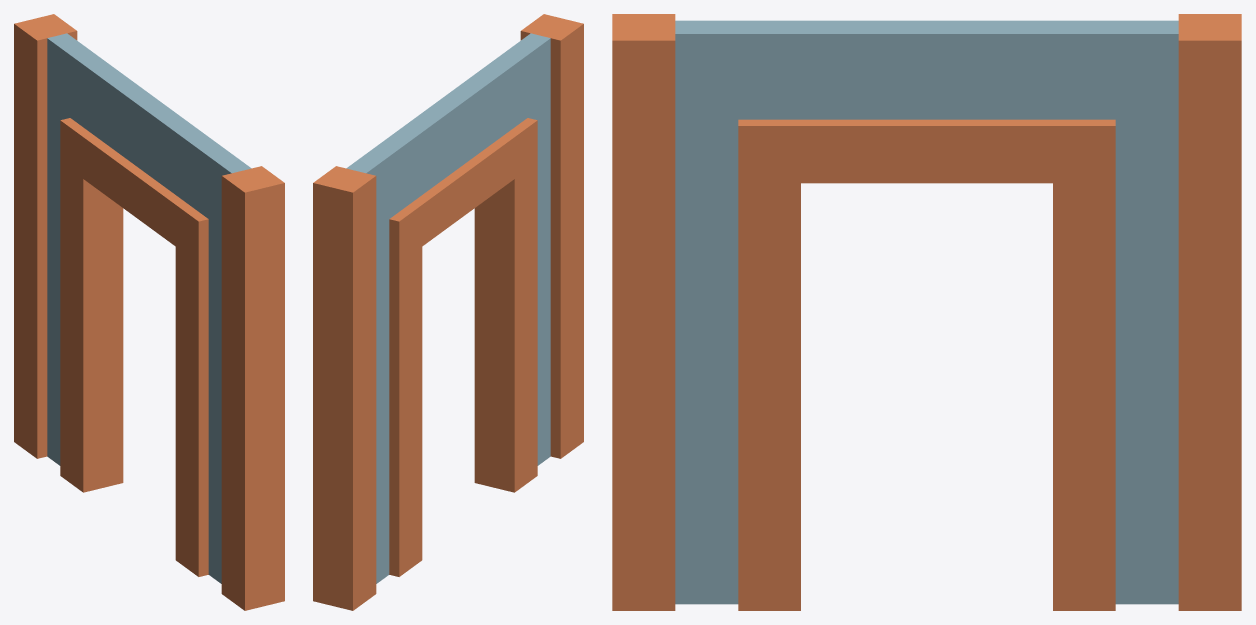
The model's file is wallDoorwaySquare.dae.
The picture shows the model from 3 angles, left to right: view 1: azimuth 30°, elevation 25°; view 2: azimuth 150°, elevation 25°; view 3: azimuth 270°, elevation 25°; orthographic projection. The views are drawn at different scales.
Visible parts, largest first — view 1: wallDoorwaySquare; view 2: wallDoorwaySquare; view 3: wallDoorwaySquare.
Part boxes in pixels (left/top/right/bottom): wallDoorwaySquare: left=14, top=14, right=284, bottom=610; wallDoorwaySquare: left=313, top=14, right=583, bottom=610; wallDoorwaySquare: left=612, top=14, right=1241, bottom=610.
Bounding box in the file's own units: 0.1 × 1 × 1.
